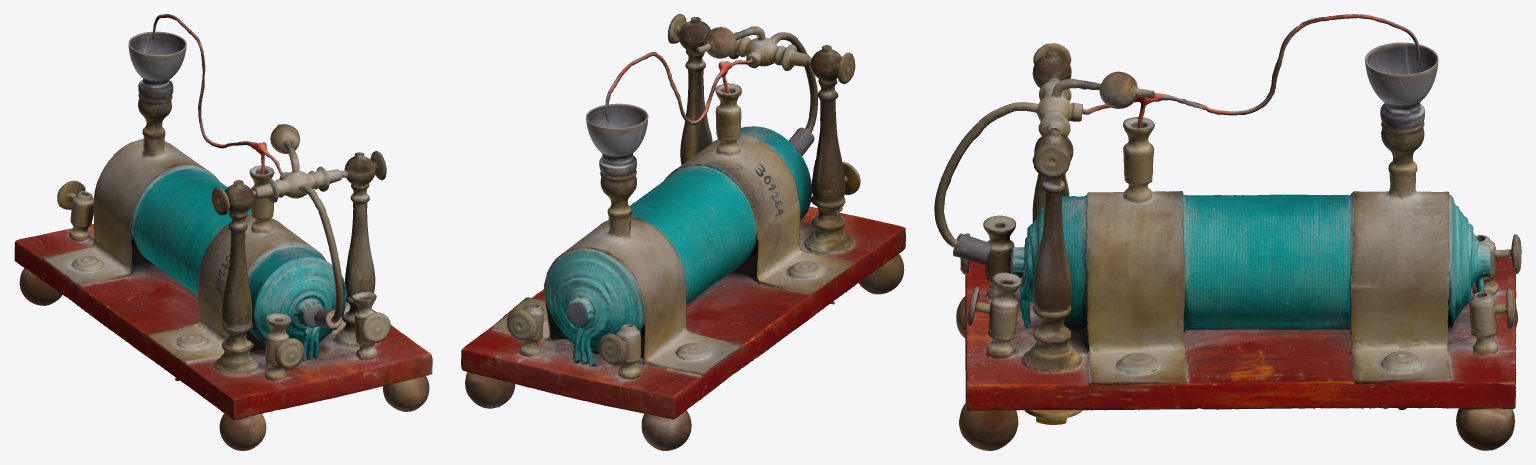
File: page-induction-coil-4k-20b0e48997.glb
3 views of the same model, side by side, from view 1: azimuth 30°, elevation 25°; view 2: azimuth 150°, elevation 25°; view 3: azimuth 270°, elevation 25° (orthographic). The views are drawn at different scales.
Bounding box in the file's own units: 0.1181 × 0.1664 × 0.2309.
1 material, 1 textured.
